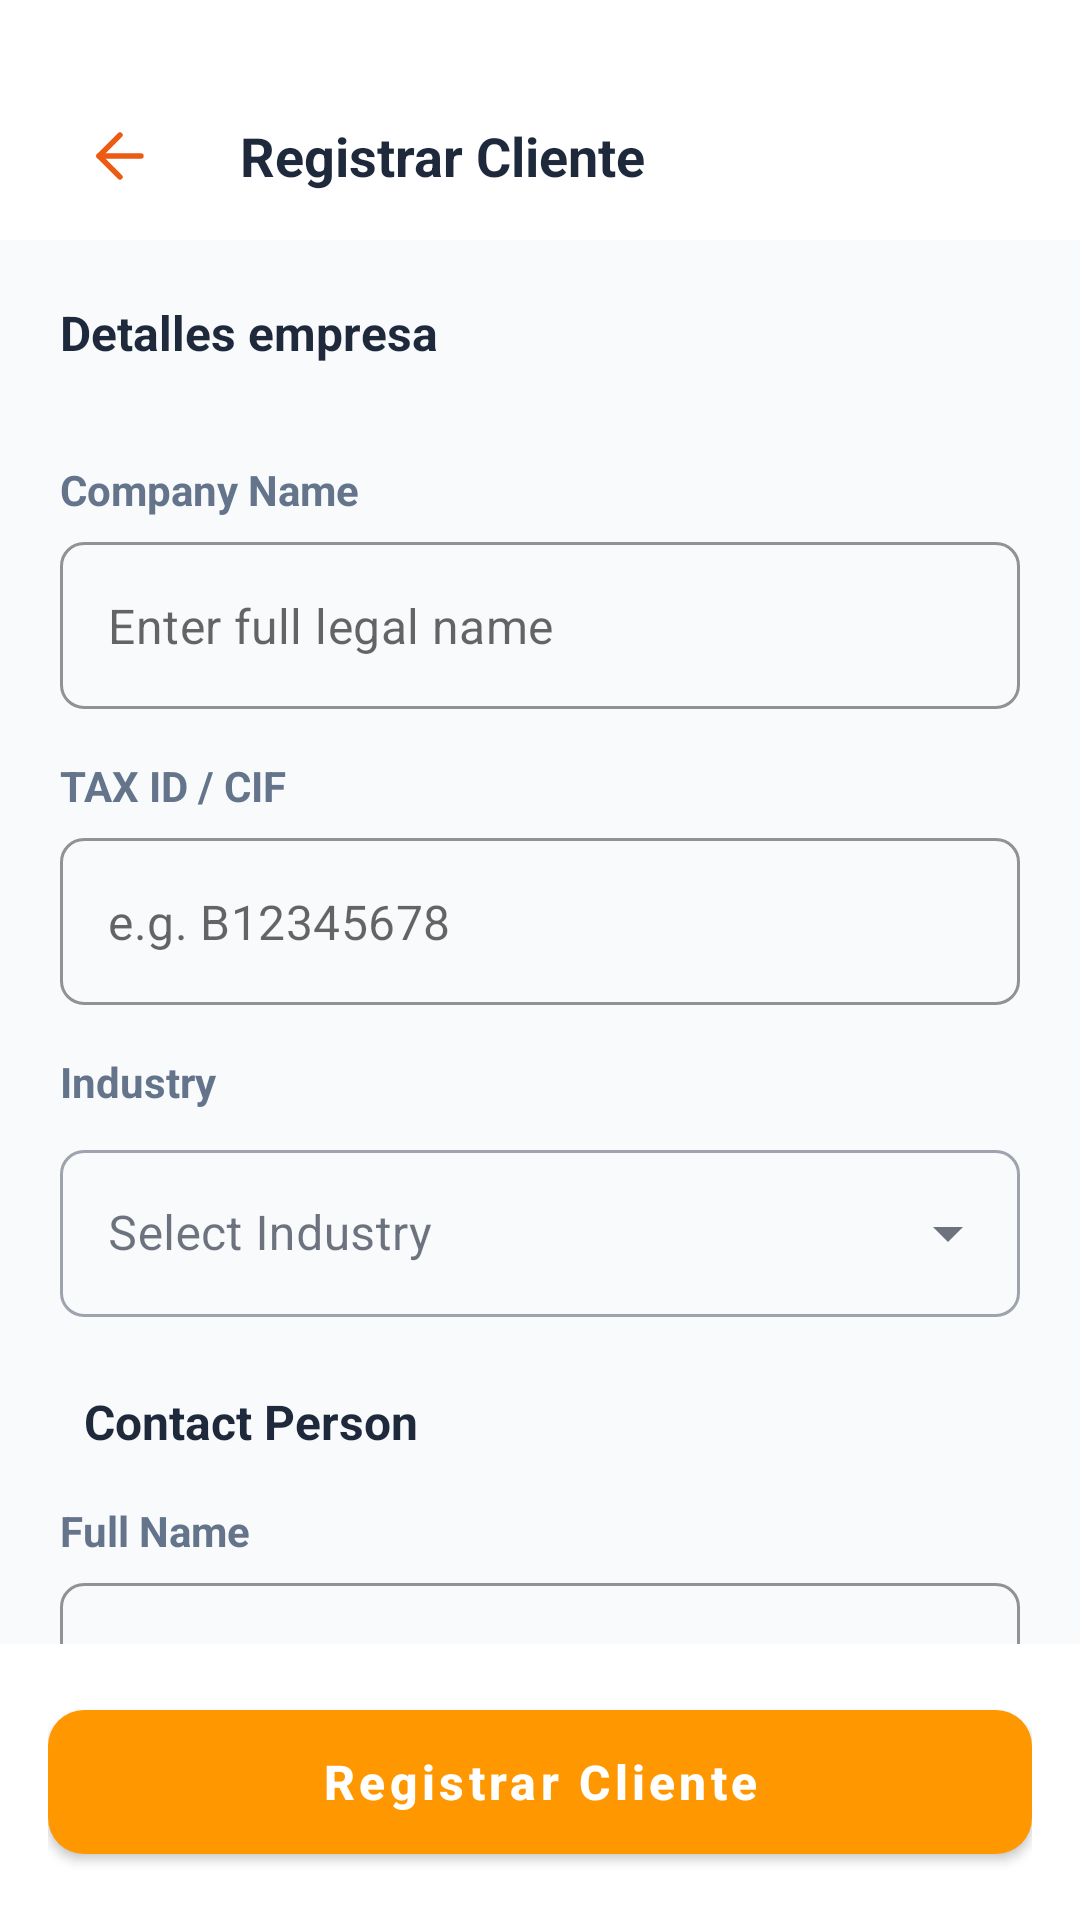

Screen size 1080px×1920px. Icon name, then its center in pixels as point (x, y):
arrow back: point (120, 156)
